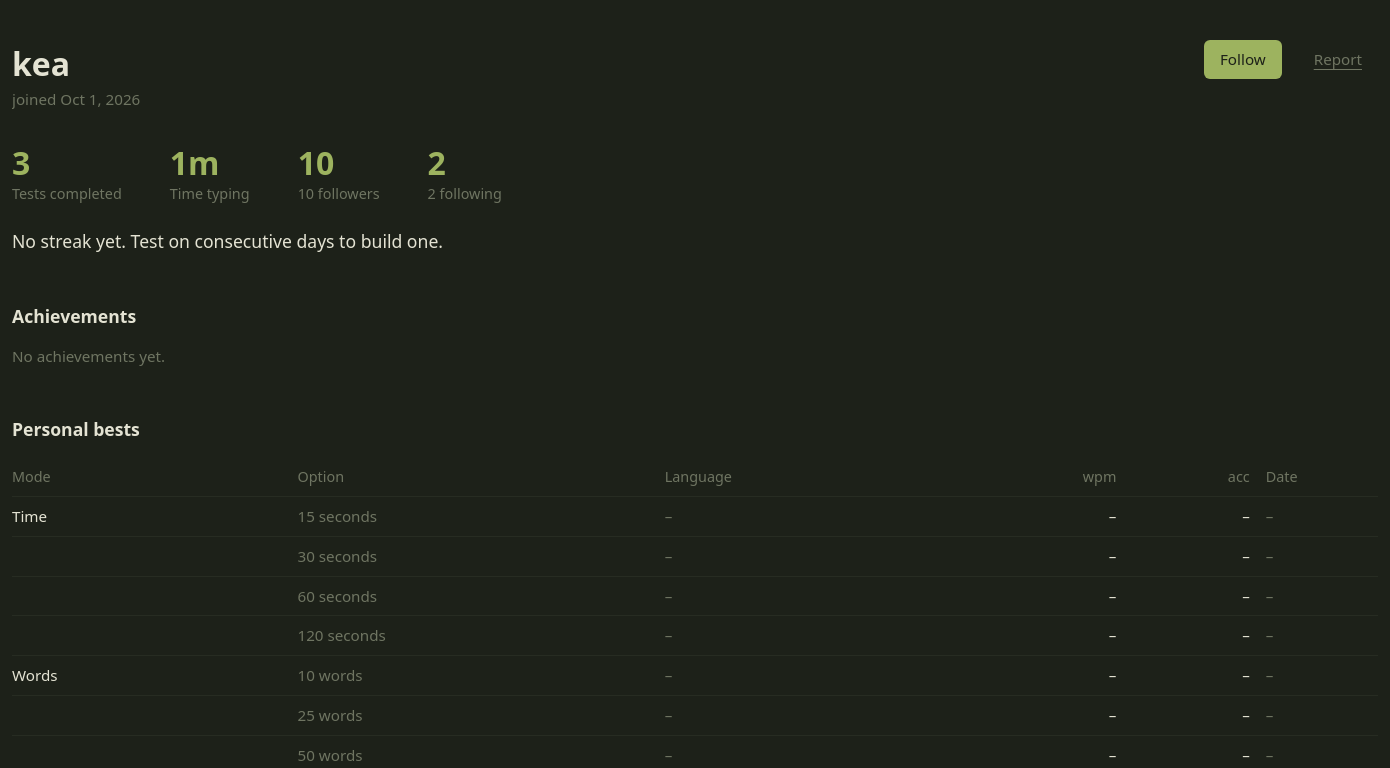
Test: follow button › rolls back and shows the error when the request fails
What coordinates should you click on to do the following:
click the button "Follow"
I would click on:
 (1243, 59)
Its box is x1=1204 y1=40 x2=1282 y2=79.
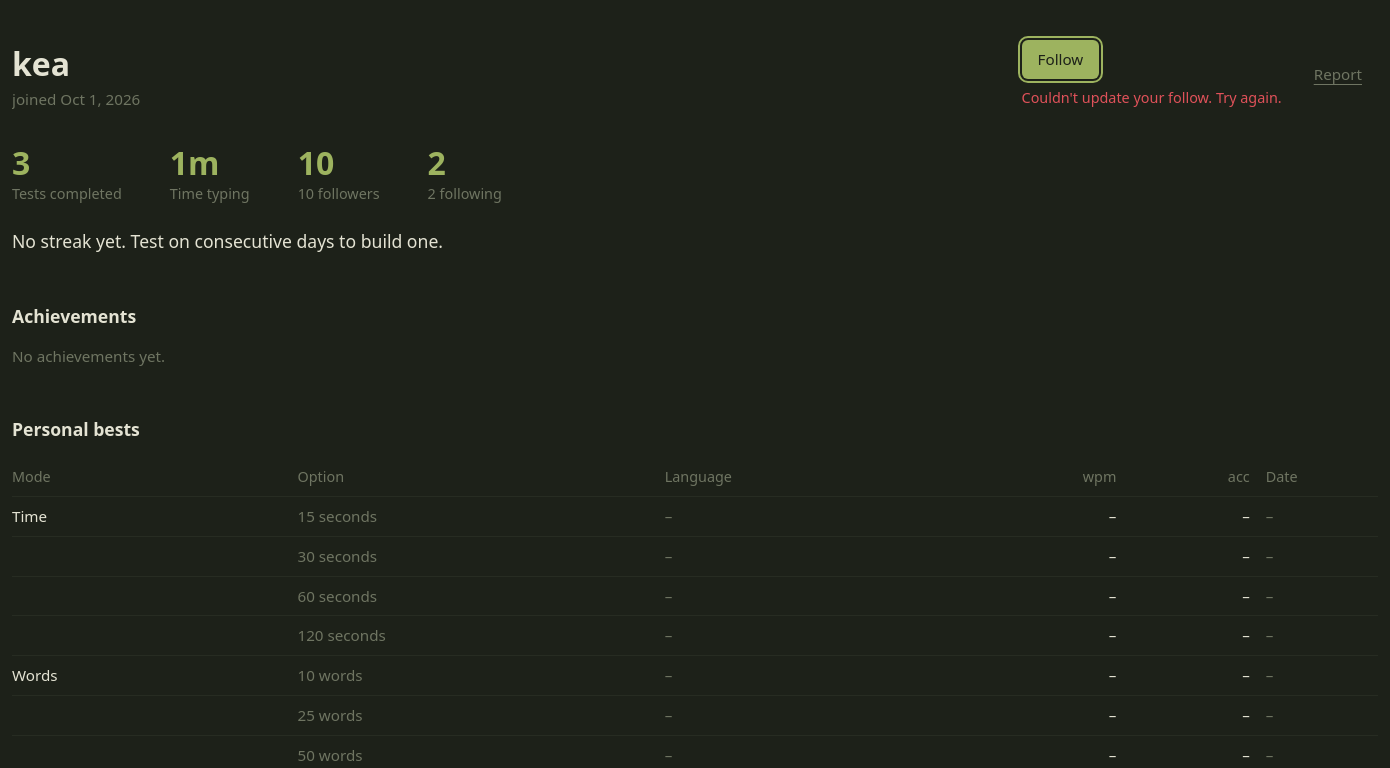
Expected: the button "Follow" is shown, x1=1022 y1=40 x2=1099 y2=79
Expected: the message reads "Couldn't update your follow. Try again.", x1=1022 y1=88 x2=1282 y2=107
